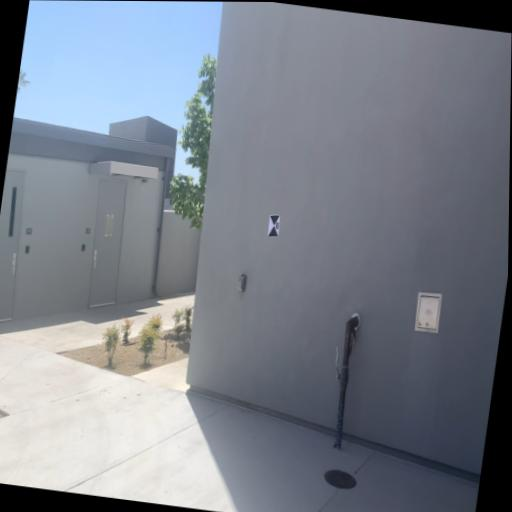target8: (267, 214, 281, 238)
